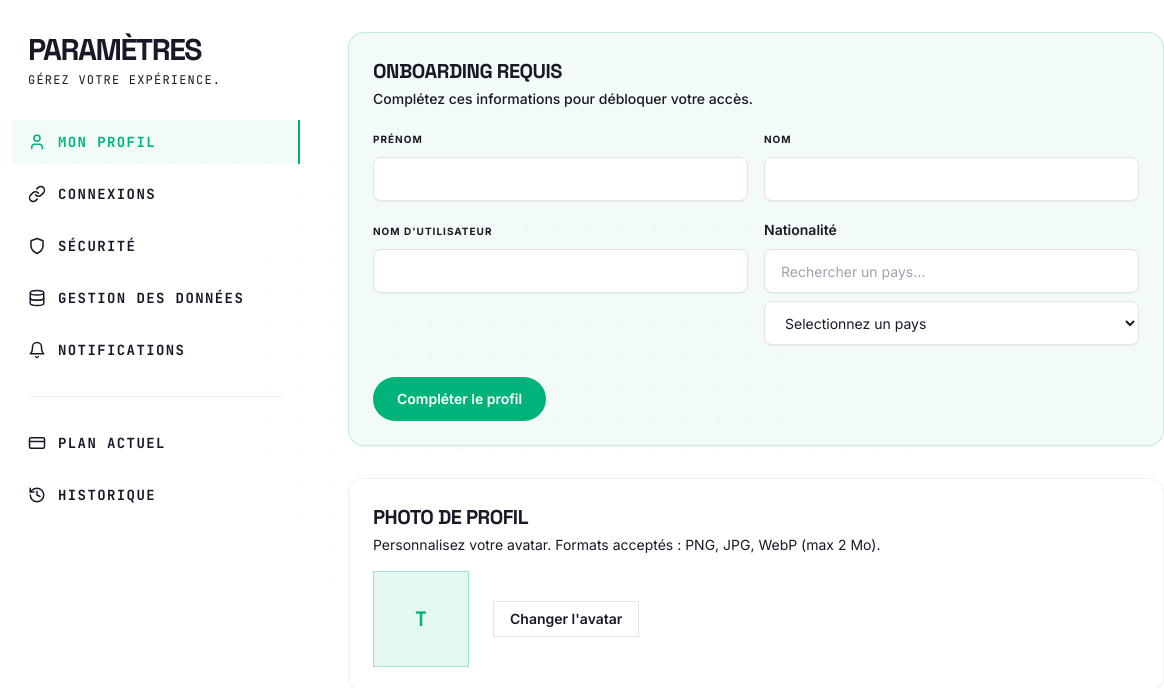
Profile page › shows inline field errors for onboarding validation
Expected: the heading "Onboarding requis" is shown, [373,58,562,84]
Type "Romaric" into the field labelled "Prénom".
click(560, 179); type("Romaric")  # box [373,157,748,201]
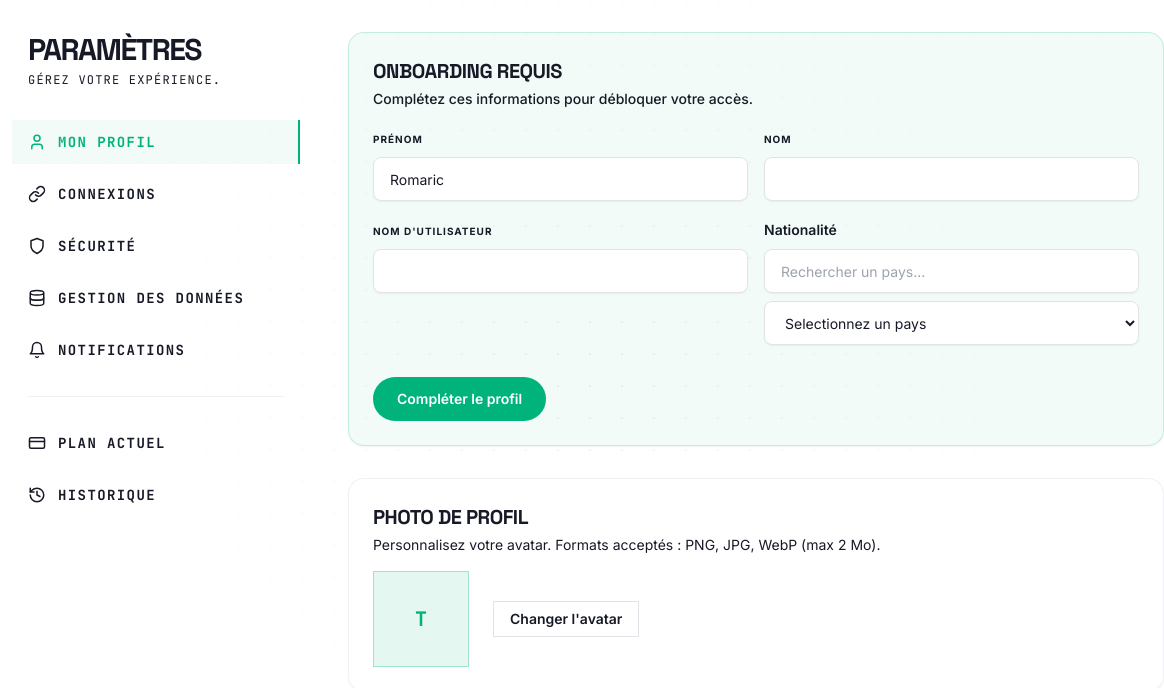
Type "Heitz" into the field labelled "Nom".
click(952, 179); type("Heitz")  # box [764,157,1139,201]
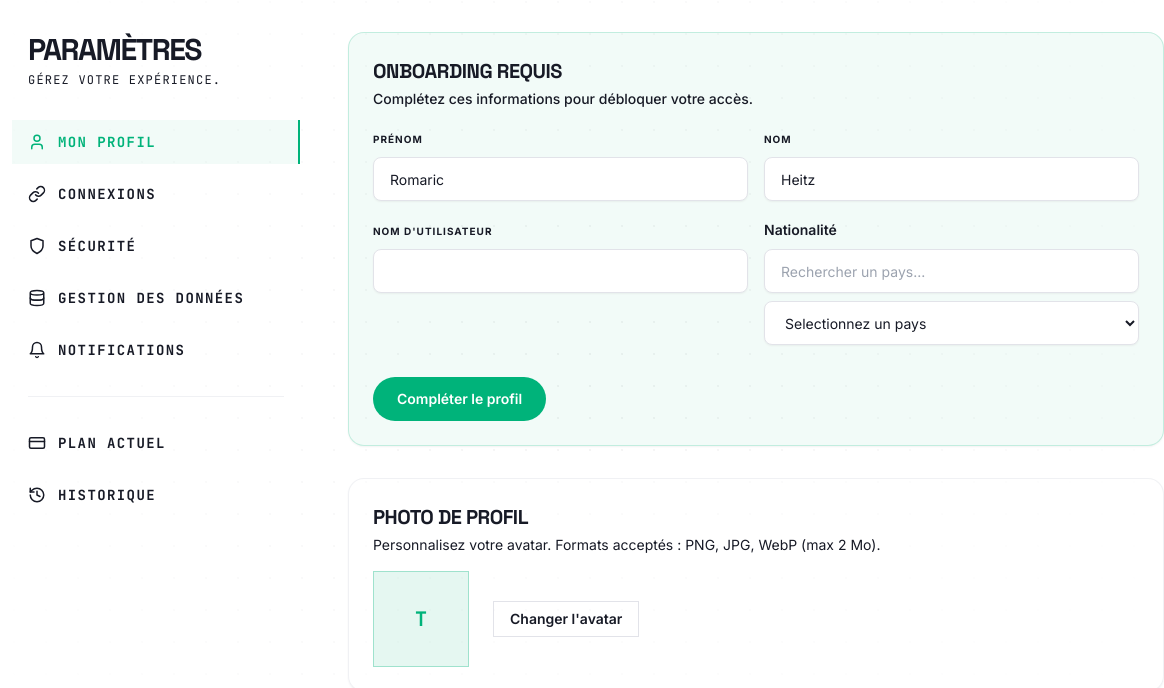
Type "romaric" into the field labelled "Nom d'utilisateur".
click(560, 271); type("romaric")  # box [373,249,748,293]
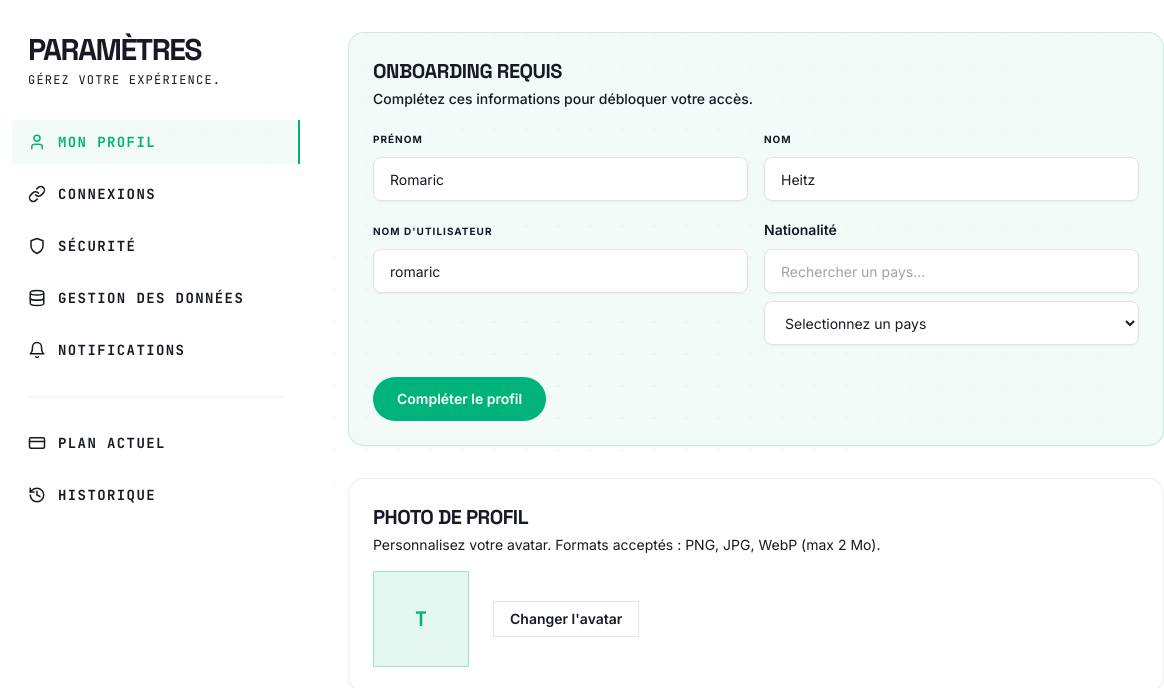
Select "FR" in the dropdown labelled "Nationalité" at (952, 323), box [764,301,1139,345]
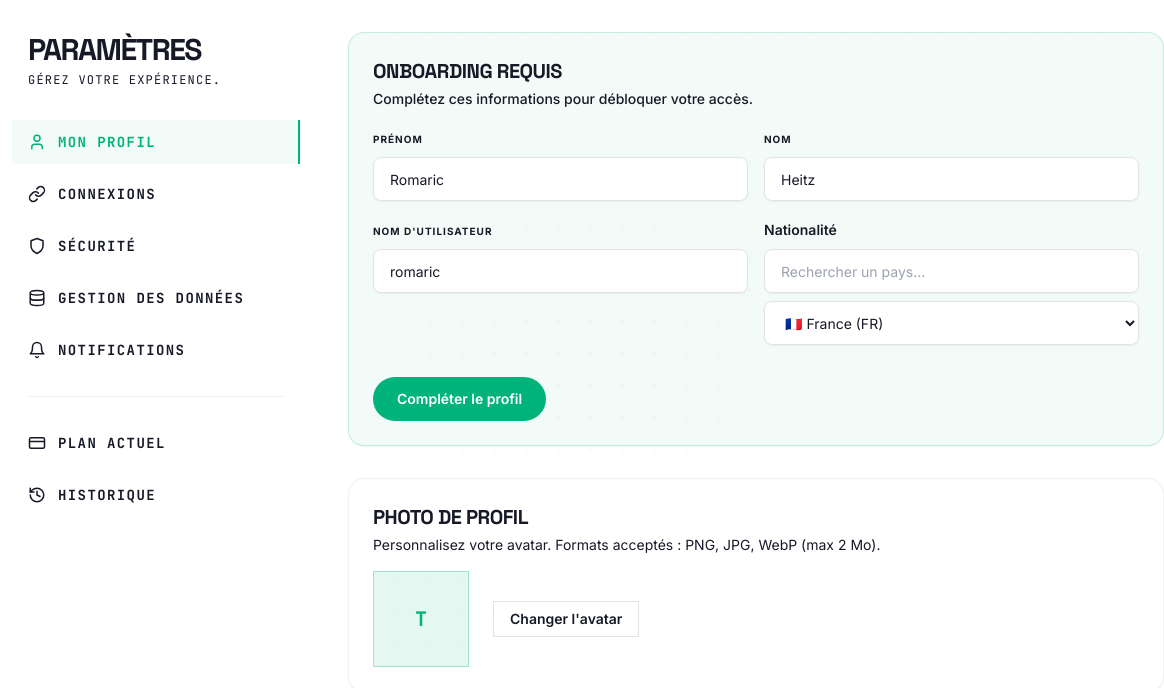
Click the button "Compléter le profil".
click(460, 399)  # box [373,377,546,421]
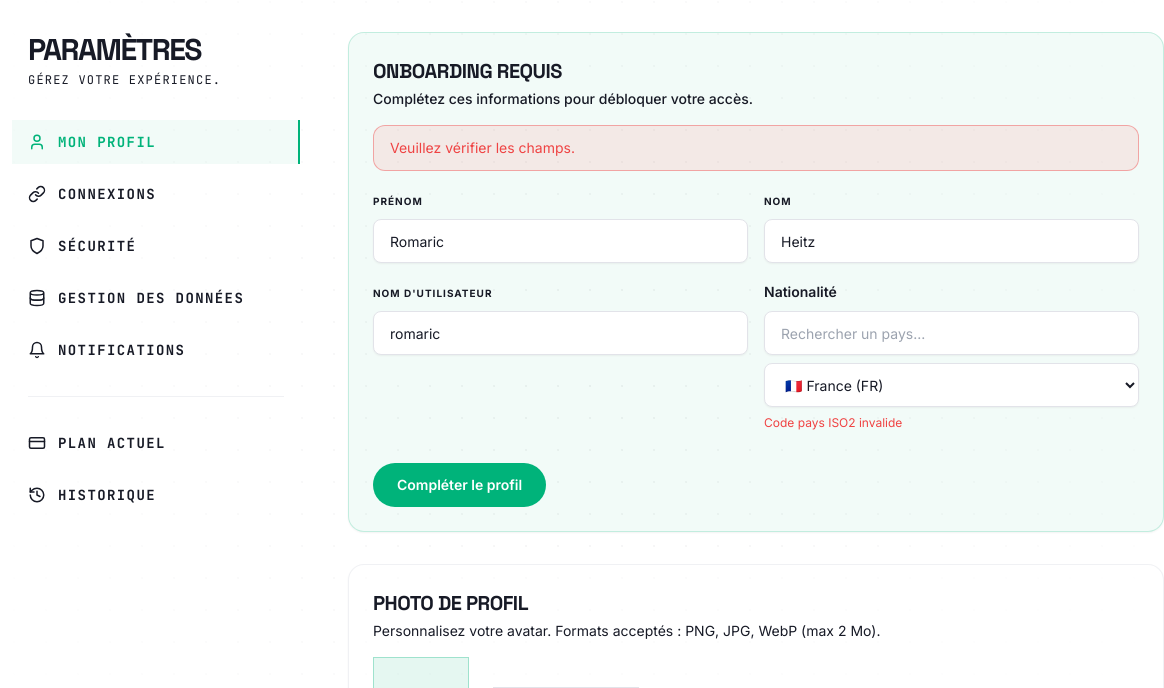
Expected: the text "Code pays ISO2 invalide" is shown, [764,415,902,430]
